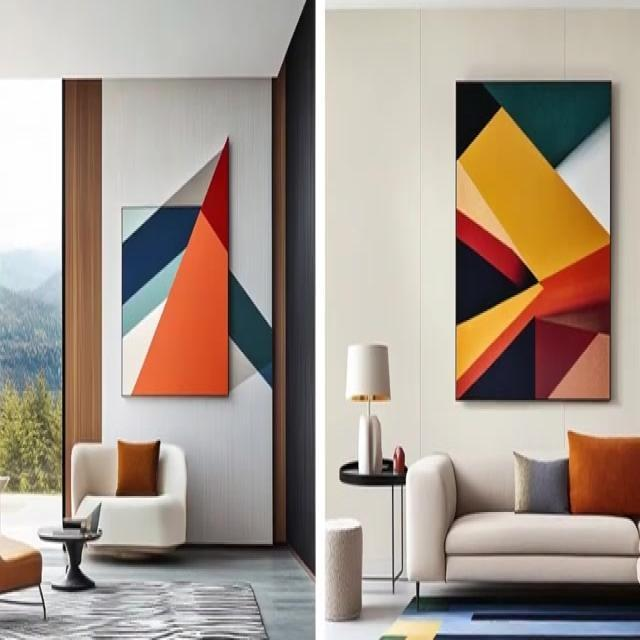obstacle: (405, 446, 639, 614), (70, 439, 187, 558), (338, 457, 407, 594)
